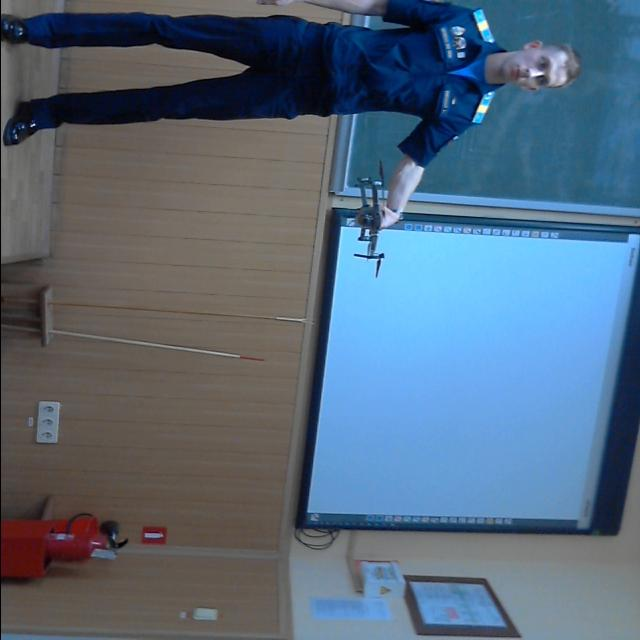drone: (329, 158, 403, 280)
